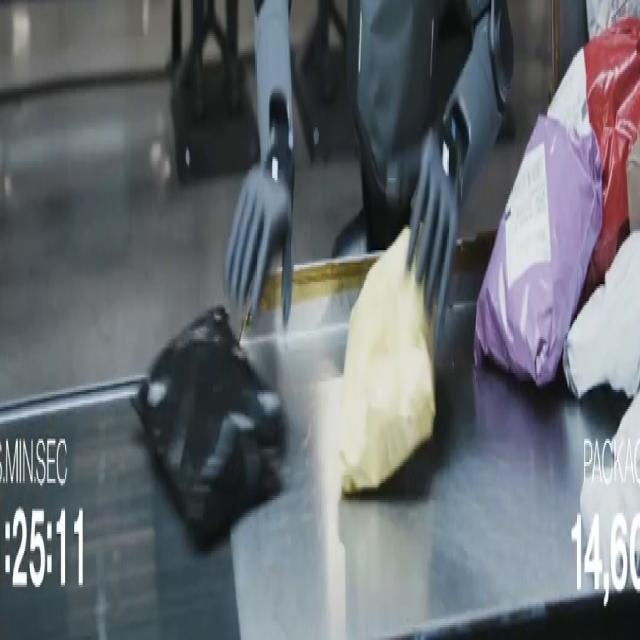package: (133, 308, 285, 544), (475, 117, 602, 385), (548, 17, 639, 305), (339, 229, 435, 493), (564, 231, 639, 398), (580, 395, 639, 593), (586, 0, 639, 38), (627, 138, 639, 230)
